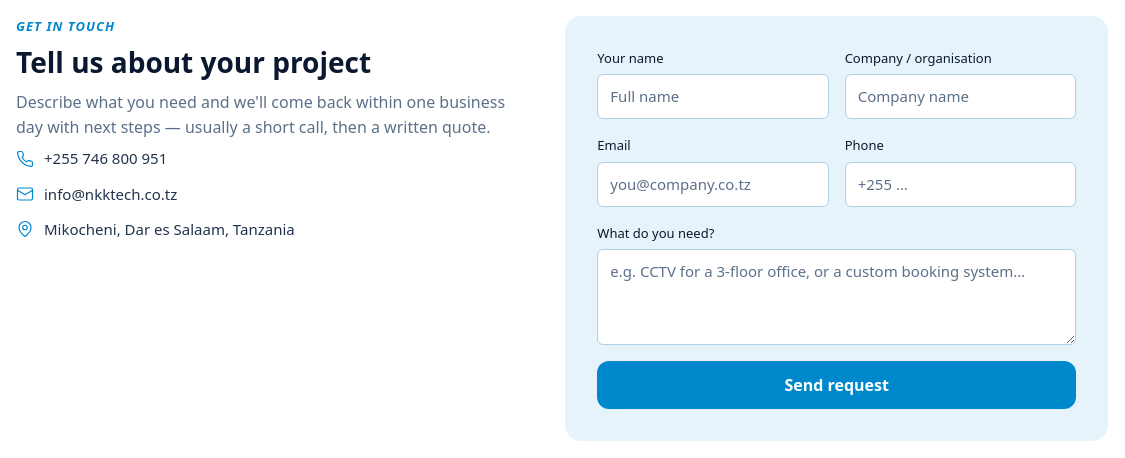
QuoteSection form › flips to the success state and removes the form when name + message + phone are valid
The width and height of the screenshot is (1125, 458).
Type "Ada Lovelace" into the field labelled "Your name".
click(713, 97); type("Ada Lovelace")  # box [597,74,829,119]
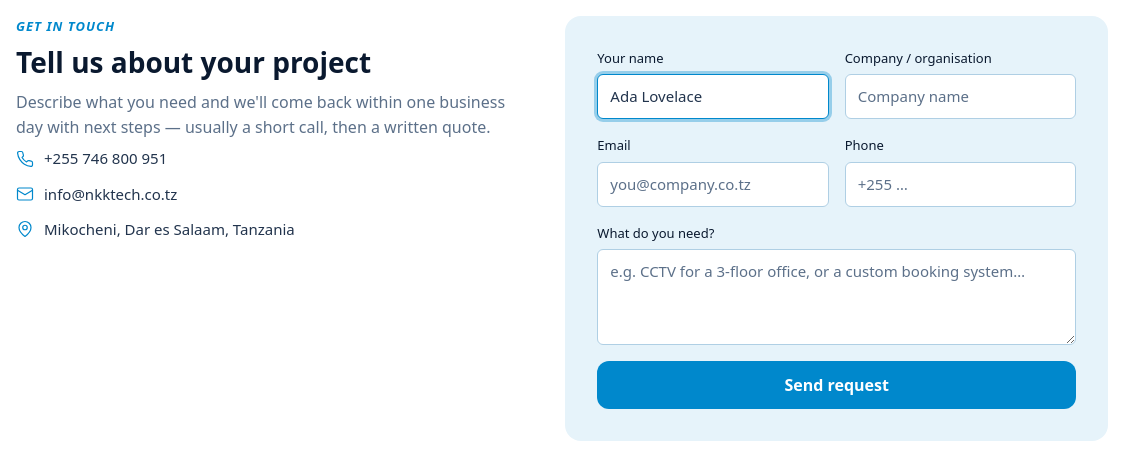
Type "A booking system" into the text box labelled "What do you need?".
click(837, 297); type("A booking system")  # box [597,249,1076,345]
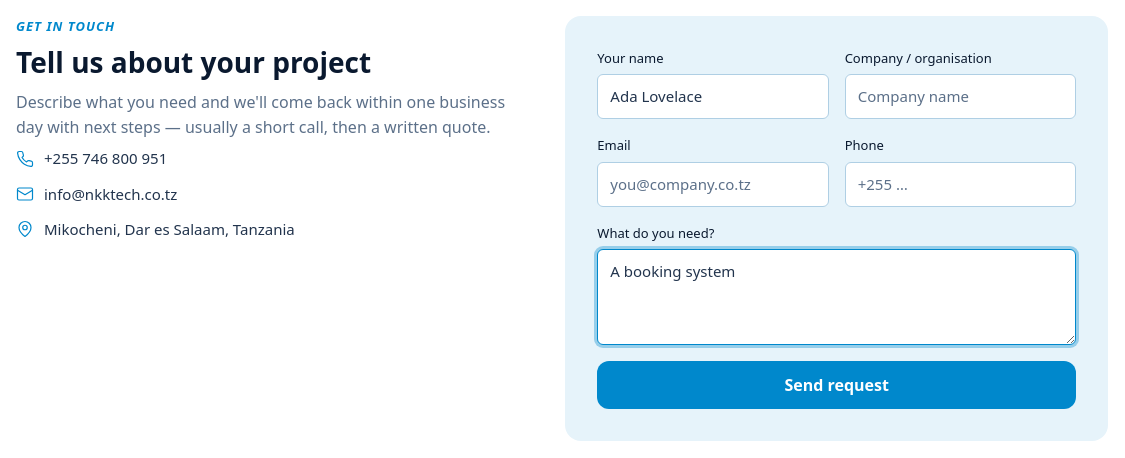
Type "+255 700 000 000" into the field labelled "Phone".
click(960, 184); type("+255 700 000 000")  # box [845,162,1076,207]
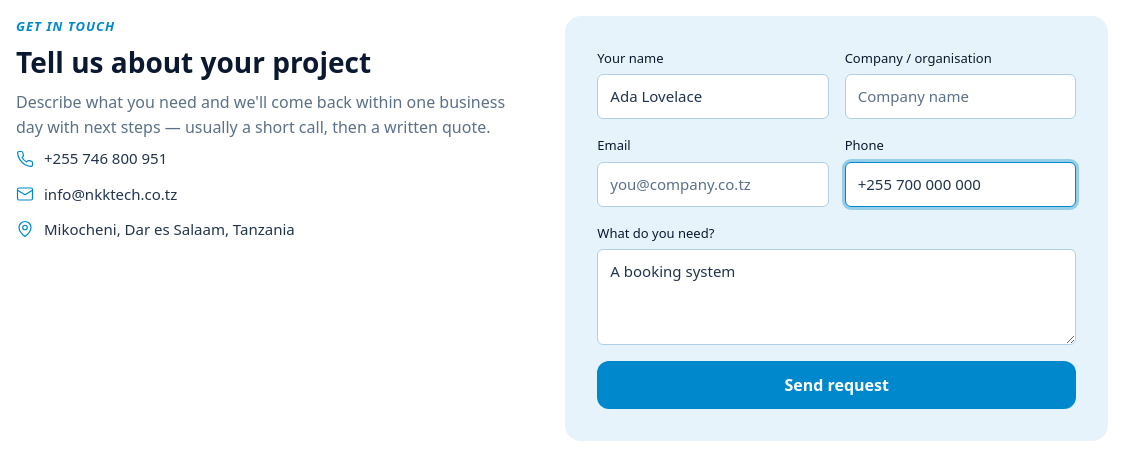
Click the button "Send request".
click(837, 385)  # box [597,361,1076,409]
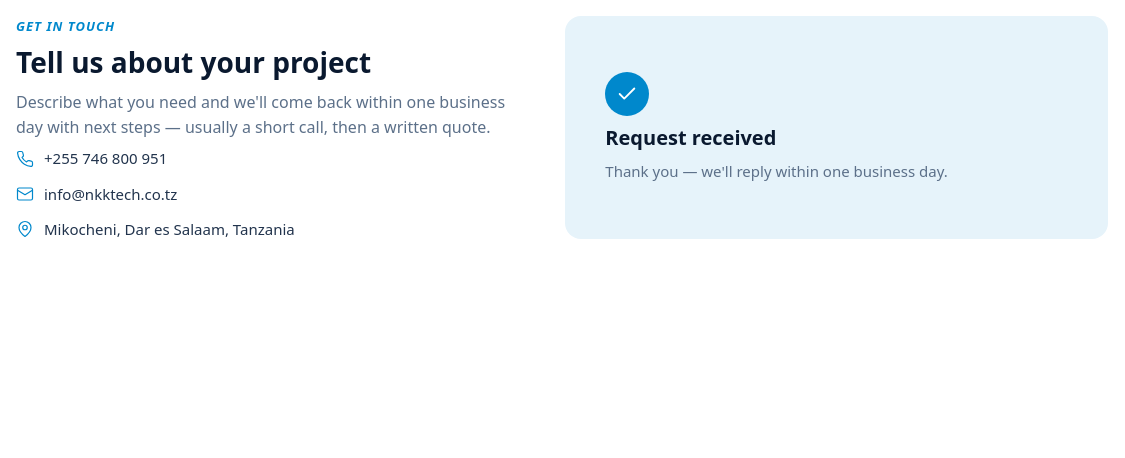
Result: the heading "Request received" is shown at [605,126,776,150]
Result: the button "Send request" is gone
